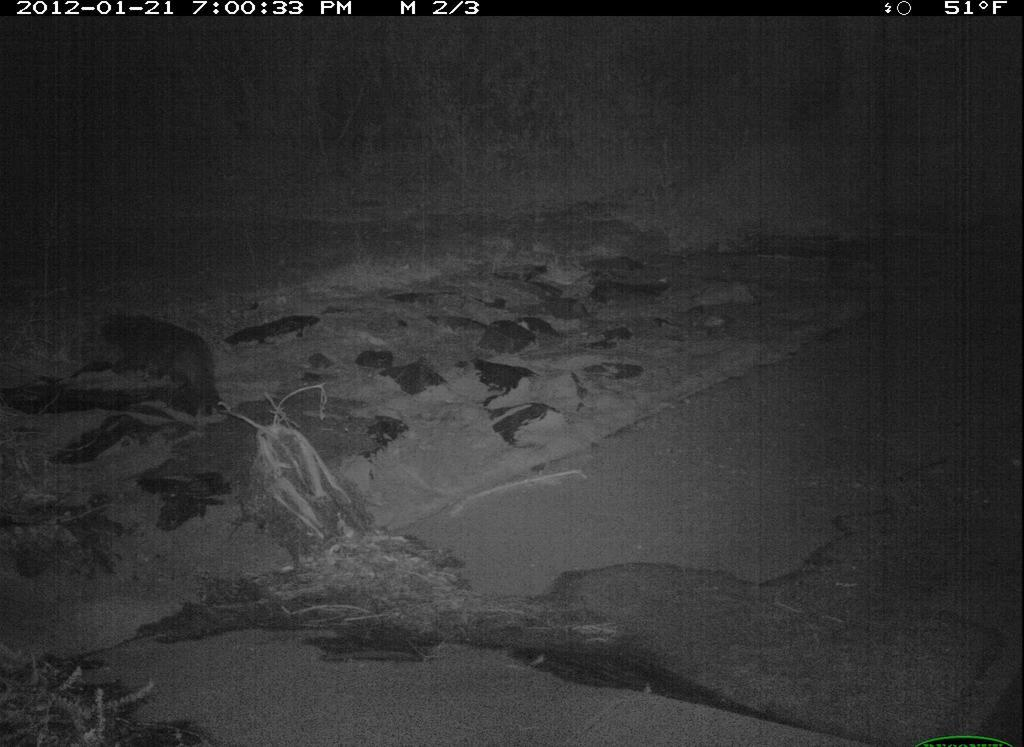cat: (84, 290, 245, 431)
